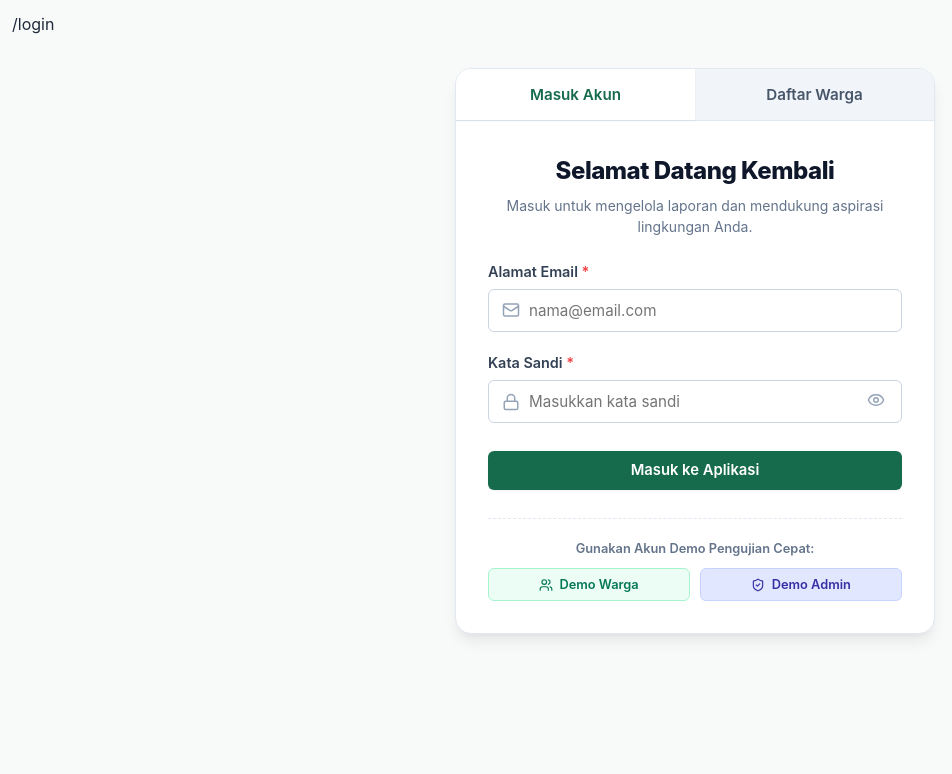
Test case: AuthPage › shows authentication failures, clears them on tab changes, and toggles password visibility
The width and height of the screenshot is (952, 774).
Type "bad@example.test" into the field labelled "Alamat Email *". click: (695, 310)
box: [488,289,902,332]
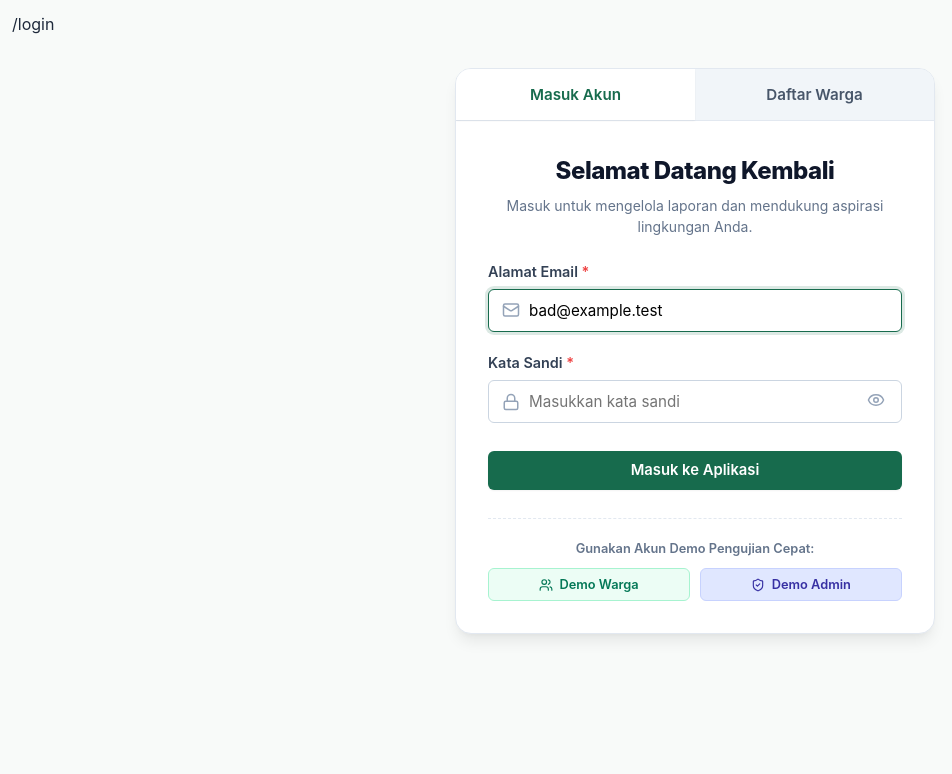
Type "password123" into the password field labelled "Kata Sandi *". click: (695, 402)
box: [488,380,902,423]
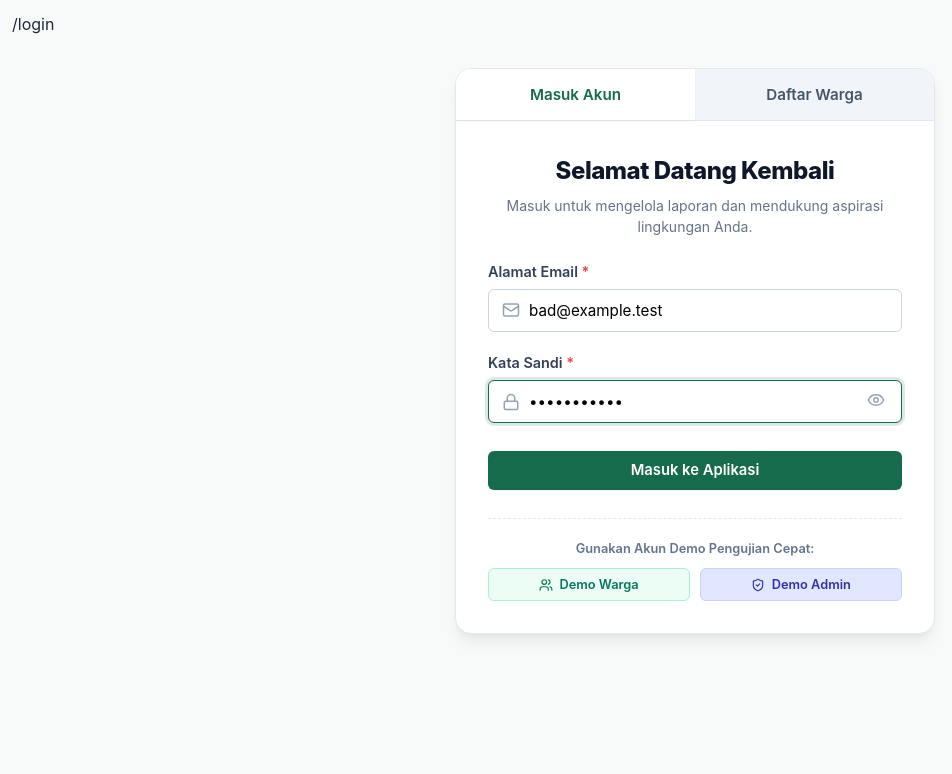
Click the button "Masuk ke Aplikasi". click: (695, 471)
box: [488,451,902,490]
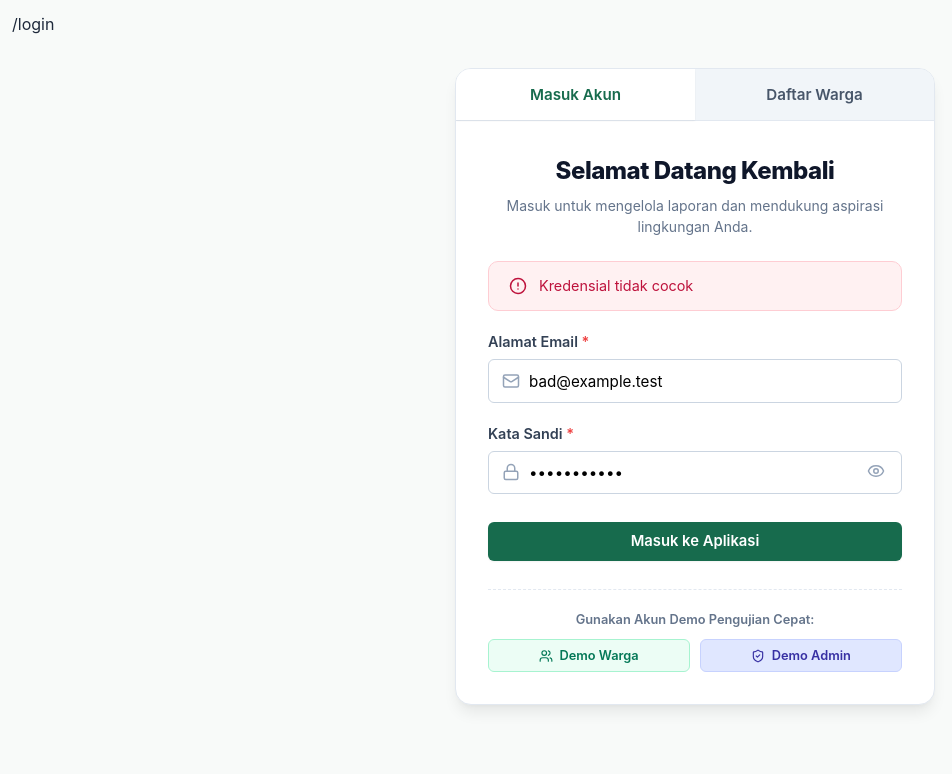
Now the message reads "Kredensial tidak cocok", box [539,277,693,294]
Click the button with test id "auth-register-mode". click: (814, 94)
box: [695,69,934,120]
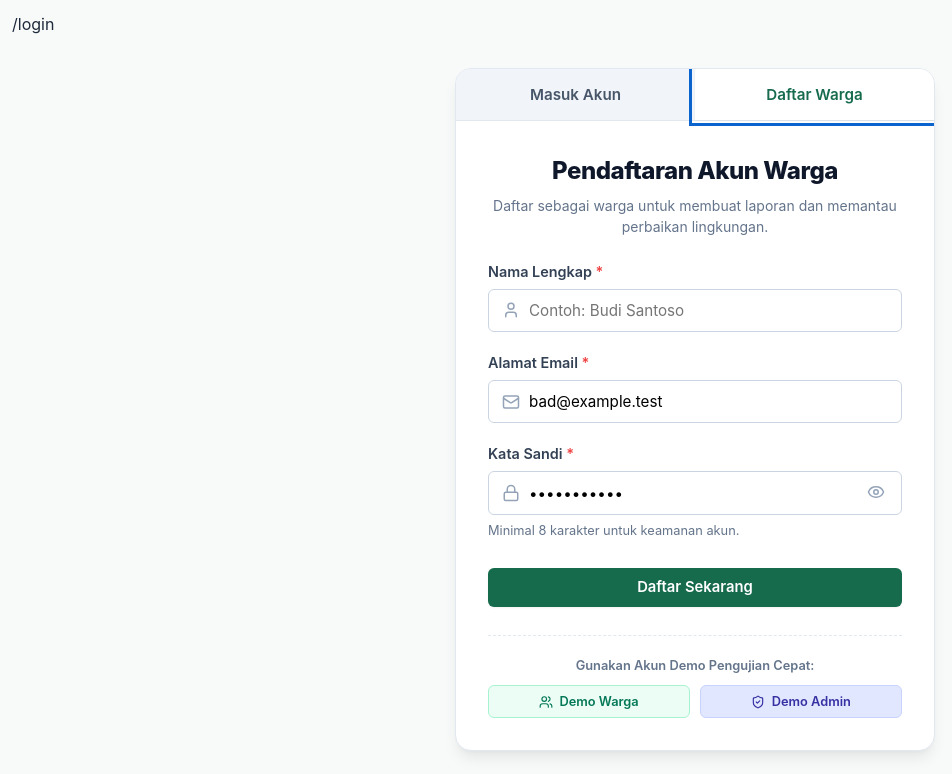
Now the message "Kredensial tidak cocok" is gone
Click the button named "Tampilkan kata sandi". click: (876, 493)
box: [864,479,888,507]
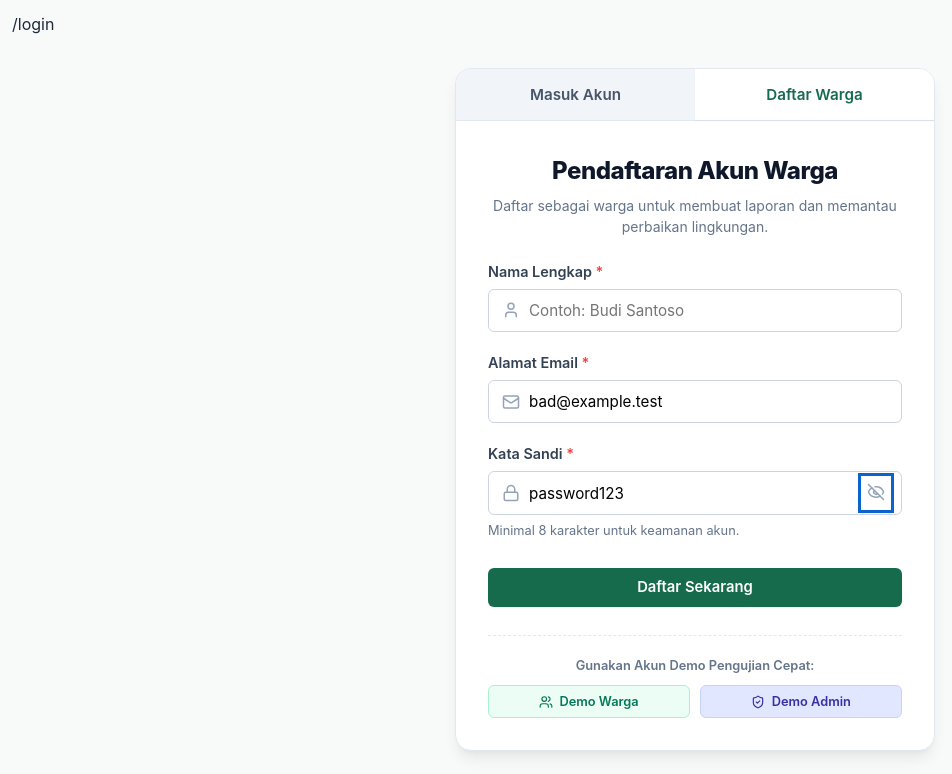
Now the field labelled "Kata Sandi *" shows its text, box [488,471,902,515]
Click the button named "Sembunyikan kata sandi". click: (876, 493)
box: [864,479,888,507]
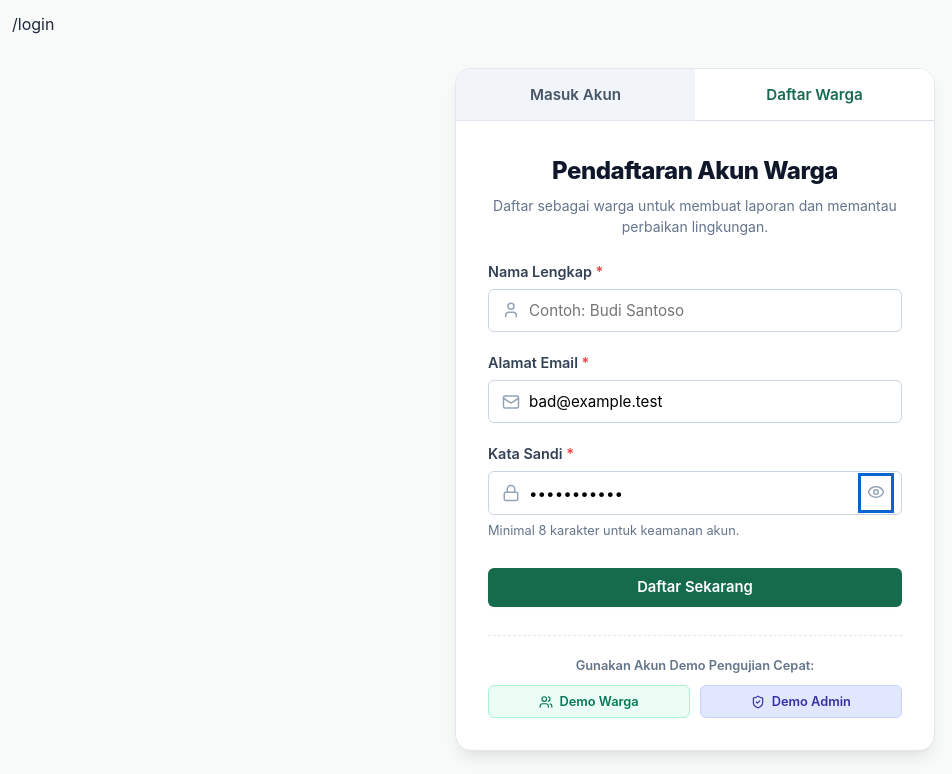
Now the password field labelled "Kata Sandi *" hides its text, box [488,471,902,515]
